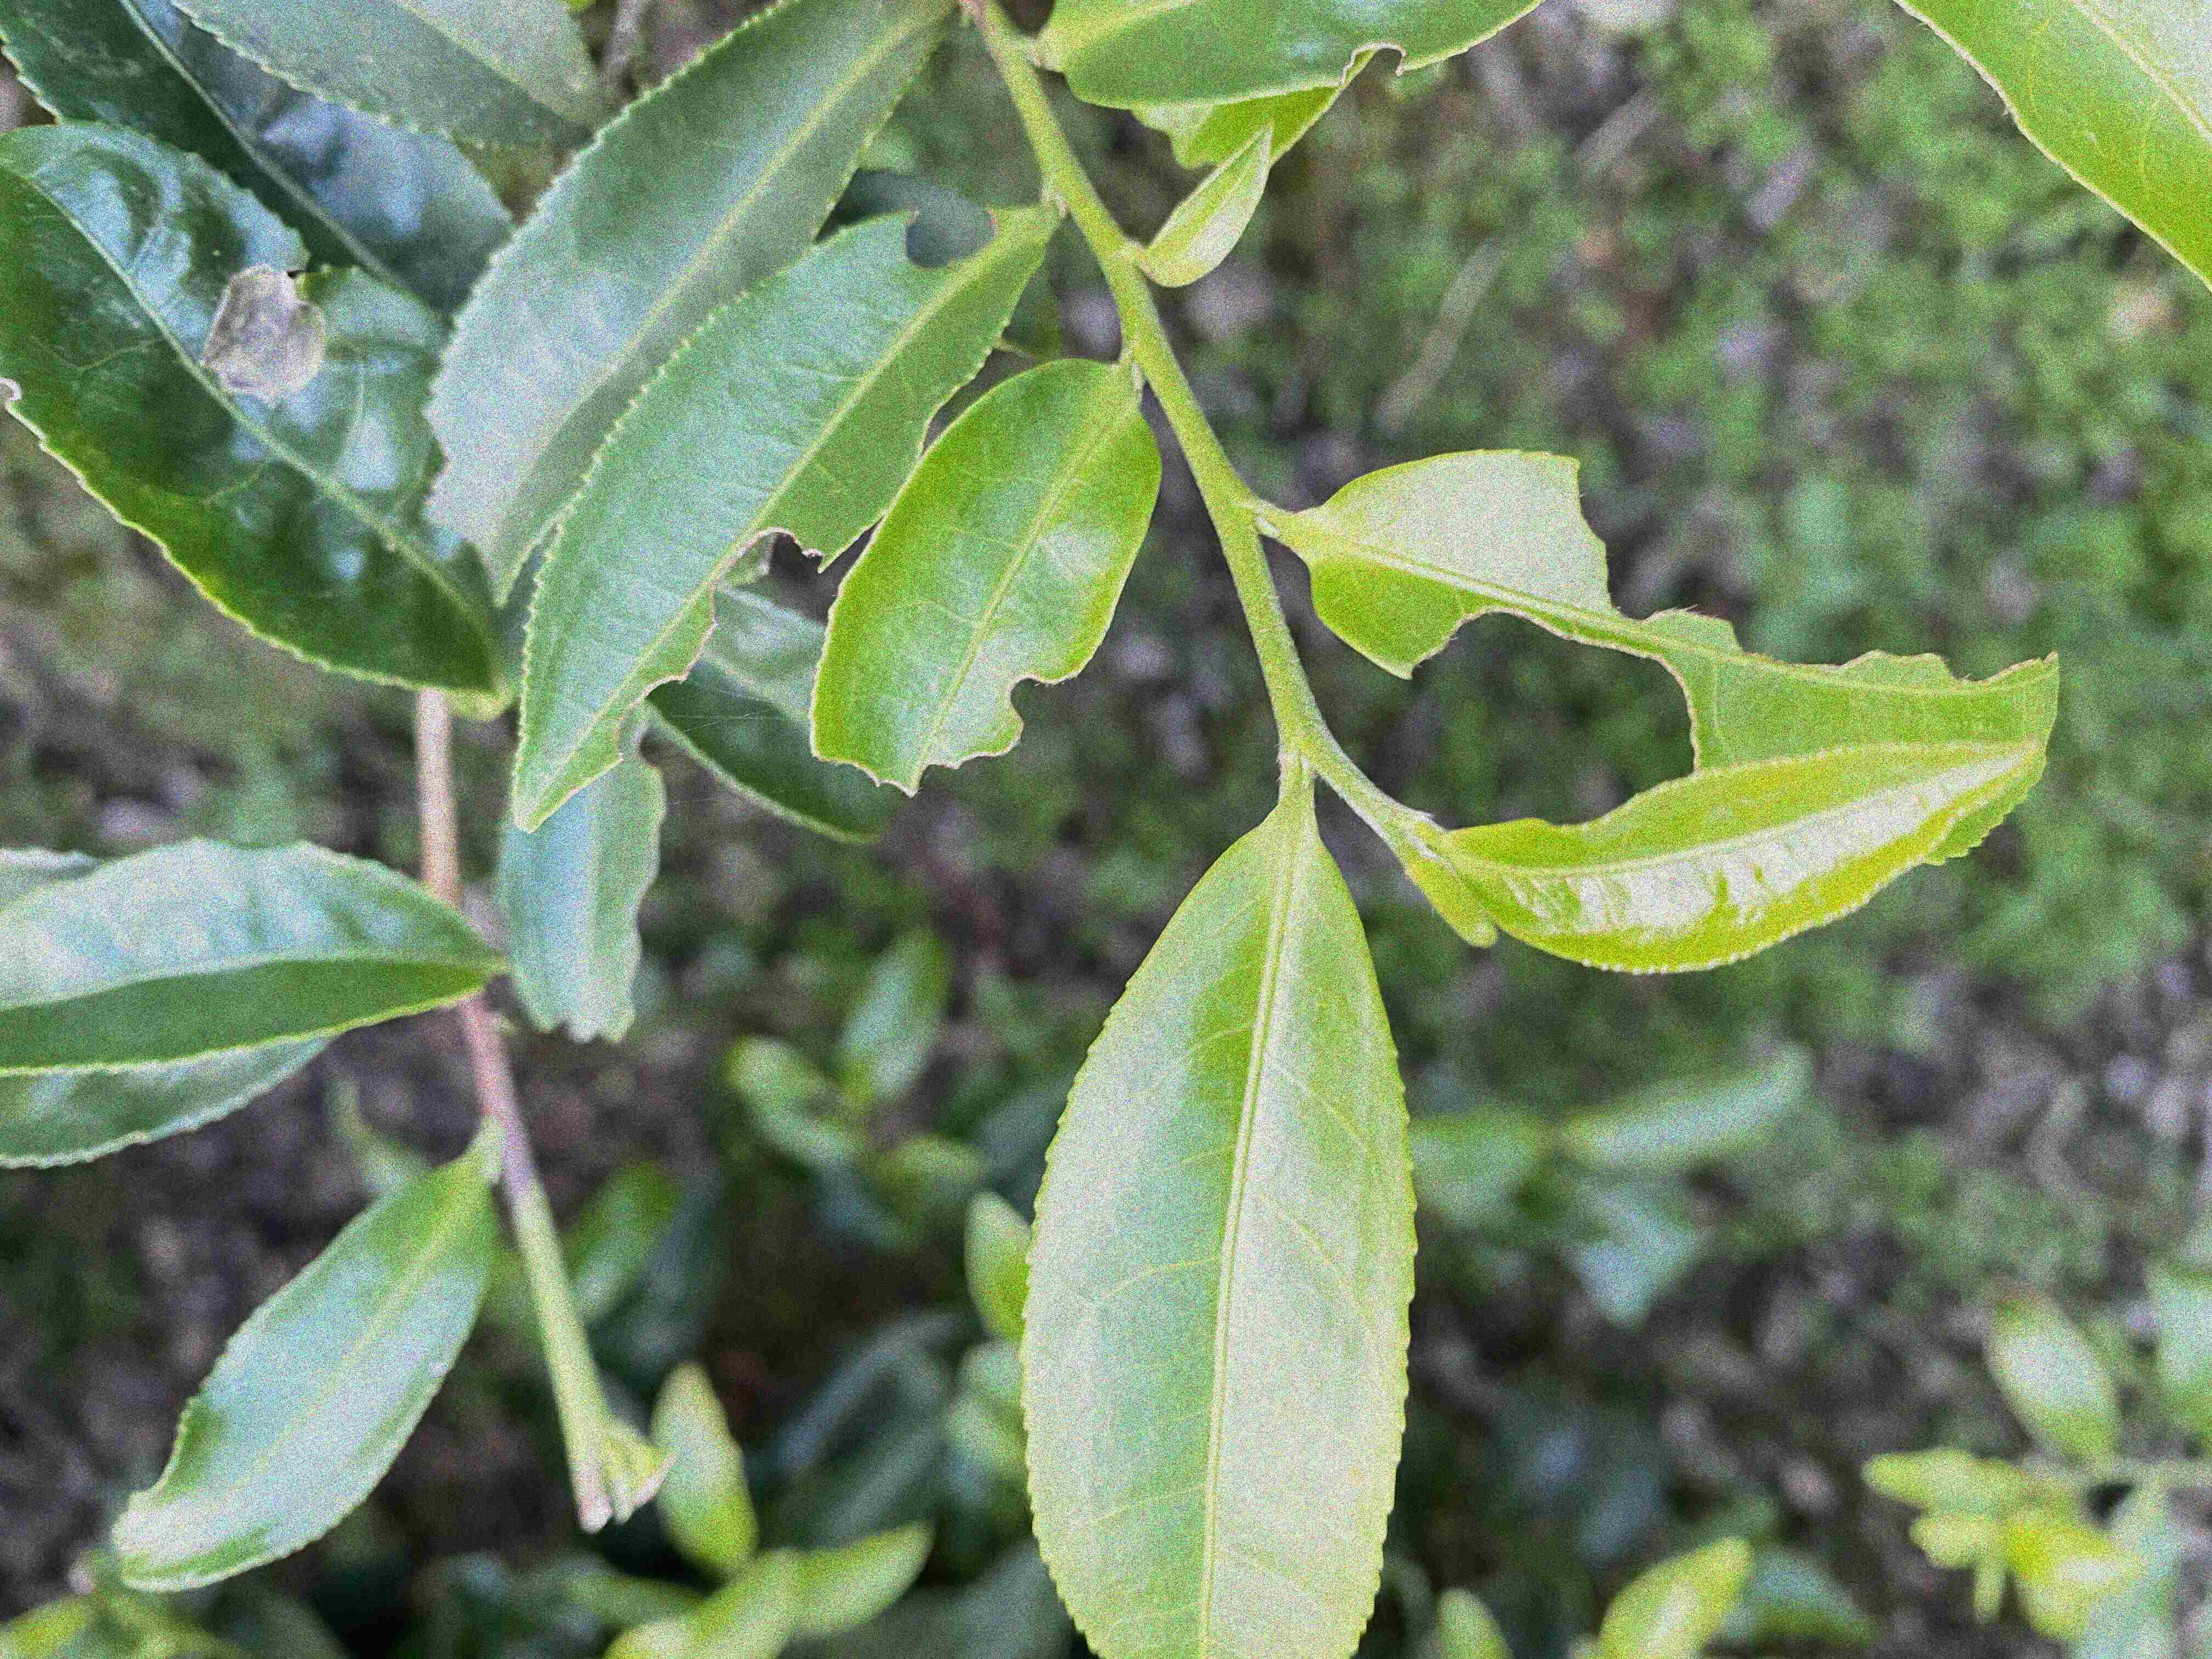chihuo_high: (509, 199, 1049, 831), (1310, 441, 2064, 870), (806, 356, 1163, 798), (496, 706, 667, 1051)
chihuo_low: (423, 0, 956, 606), (1446, 735, 2040, 981), (1045, 0, 1541, 112)
healthy: (1015, 805, 1426, 1656), (106, 1162, 503, 1593), (5, 835, 503, 1077)
tanju_high: (2, 115, 495, 701)
